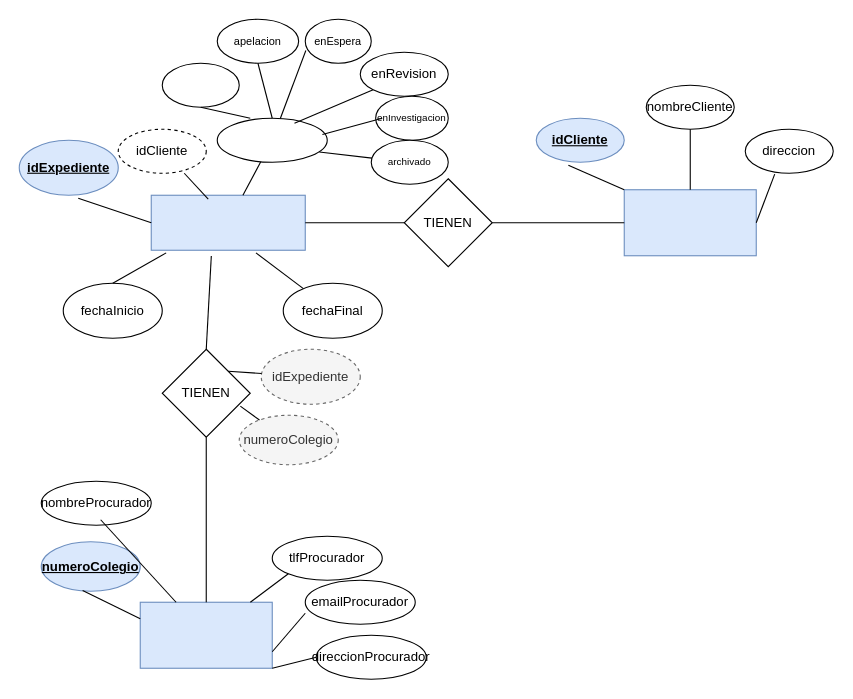
Some shapes in this 853 by 699 pixel diagram are drawn without their labels. Each missing label, with the centre of its shape:
CASOS: pixel 227 222
CLIENTES: pixel 689 222
estado: pixel 271 139
PROCURADORES: pixel 205 634
suspendido: pixel 200 84
